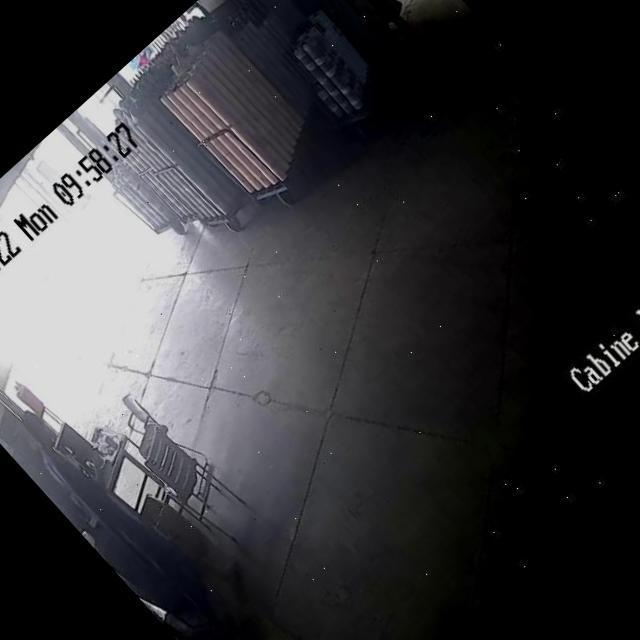person: (17, 405, 210, 616)
